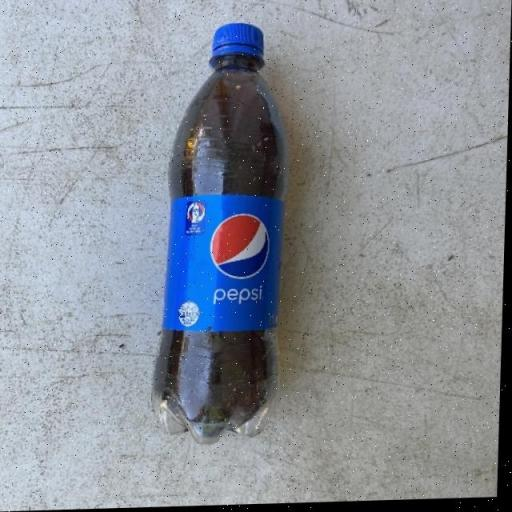plastic: (153, 21, 294, 447)
